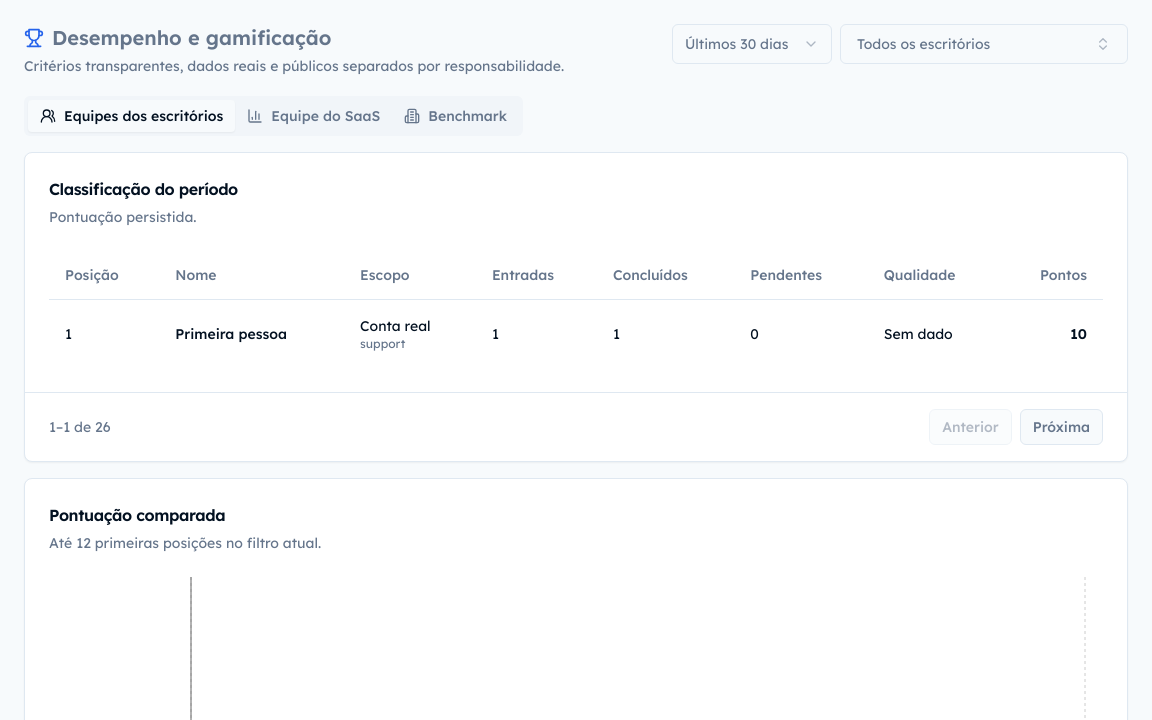
BlackboxPerformanceStudio › navigates each board through the authoritative server page
Check: the text "Primeira pessoa" is shown, box [159,299,344,368]
Check: the text "1–1 de 26" is shown, box [49,416,111,436]
What coordinates should you click on to do the following:
click the button "Próxima"
I would click on:
 (1061, 426)
Its box is [1020,408,1103,444].
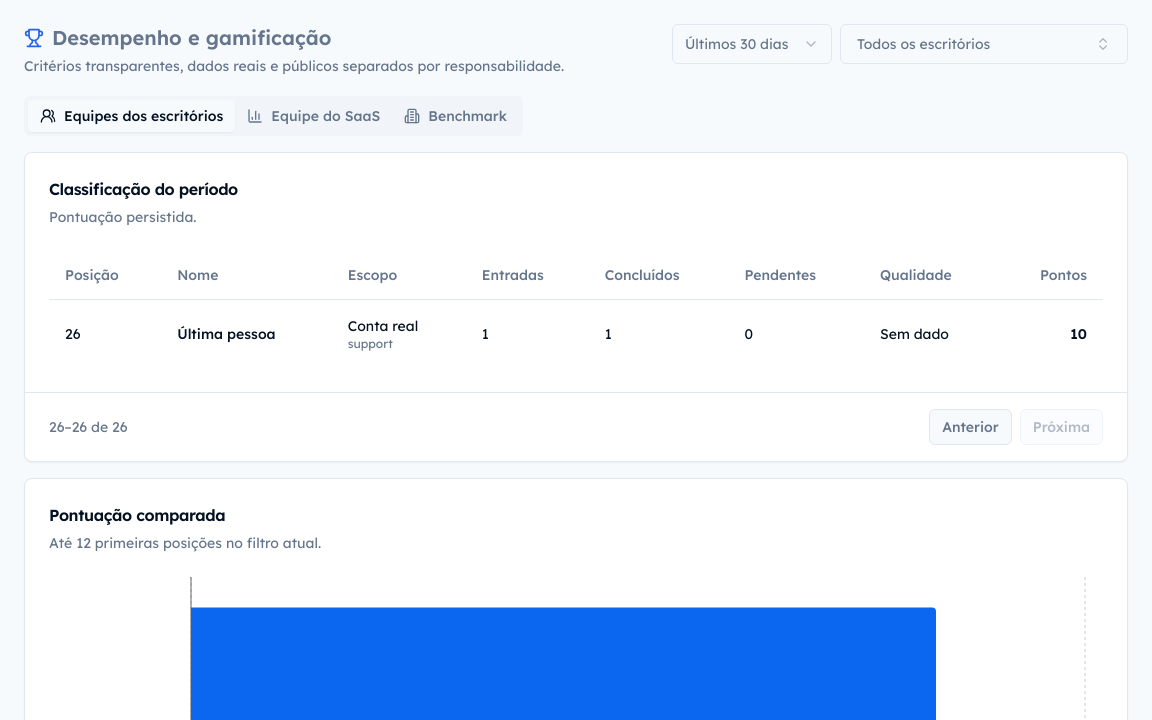
Check: the text "Última pessoa" is shown, box [161,299,332,368]
Check: the text "26–26 de 26" is shown, box [49,416,128,436]
Check: the button "Próxima" is disabled, box [1020,408,1103,444]
